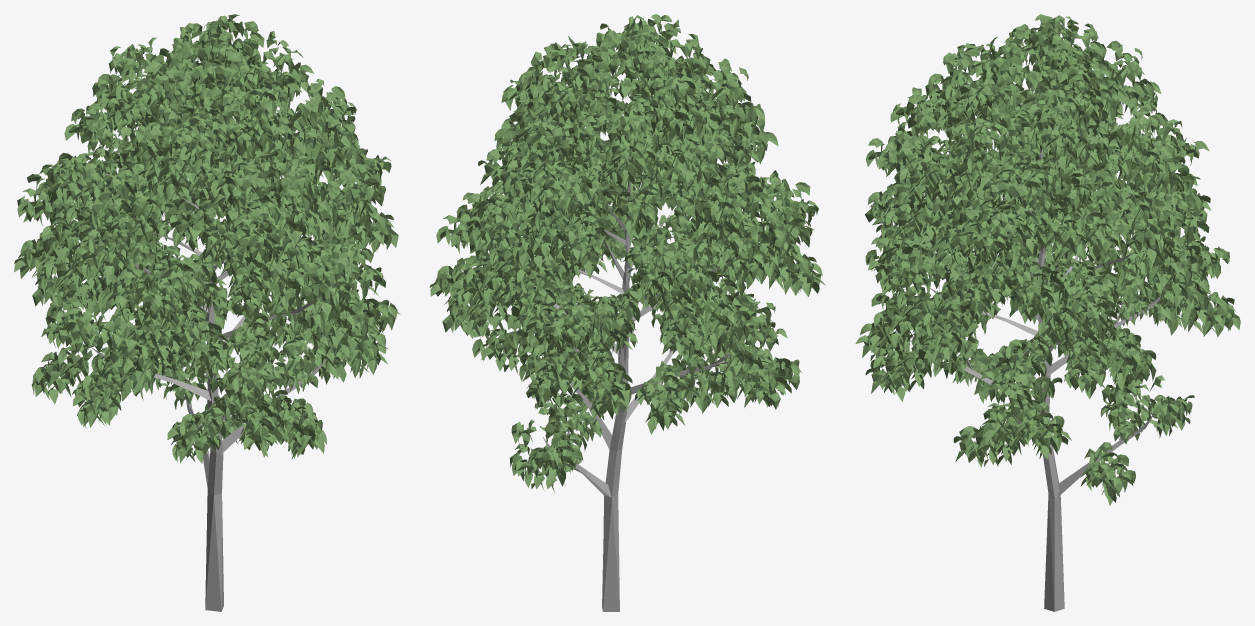
File: one_tree.glb
3 renders of one model, left to right at view 1: azimuth 30°, elevation 25°; view 2: azimuth 150°, elevation 25°; view 3: azimuth 270°, elevation 25°, orthographic. The views are drawn at different scales.
Visible parts, largest first — view 1: Tree.Birch; view 2: Tree.Birch; view 3: Tree.Birch.
Part boxes in pixels (x1,y1,x2,y2): Tree.Birch: (14, 14, 400, 611); Tree.Birch: (429, 14, 825, 611); Tree.Birch: (855, 14, 1240, 611).
Bounding box in the file's own units: 2.39 × 3.92 × 2.37.
